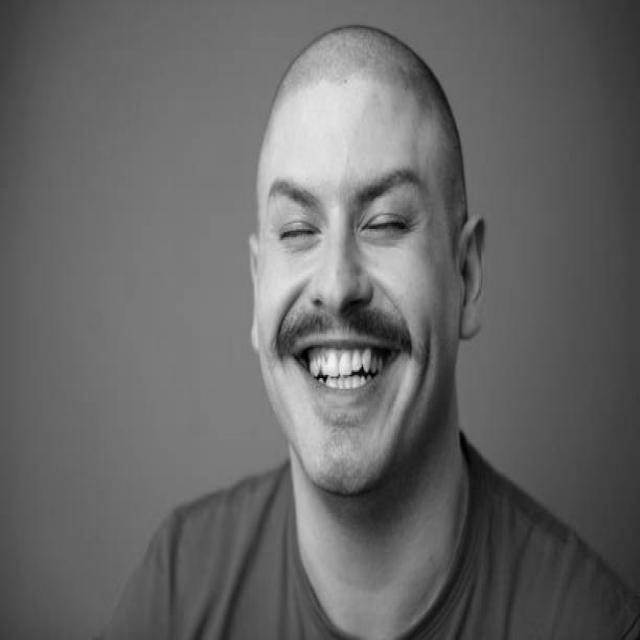real: (245, 31, 489, 494), (263, 170, 440, 250)
